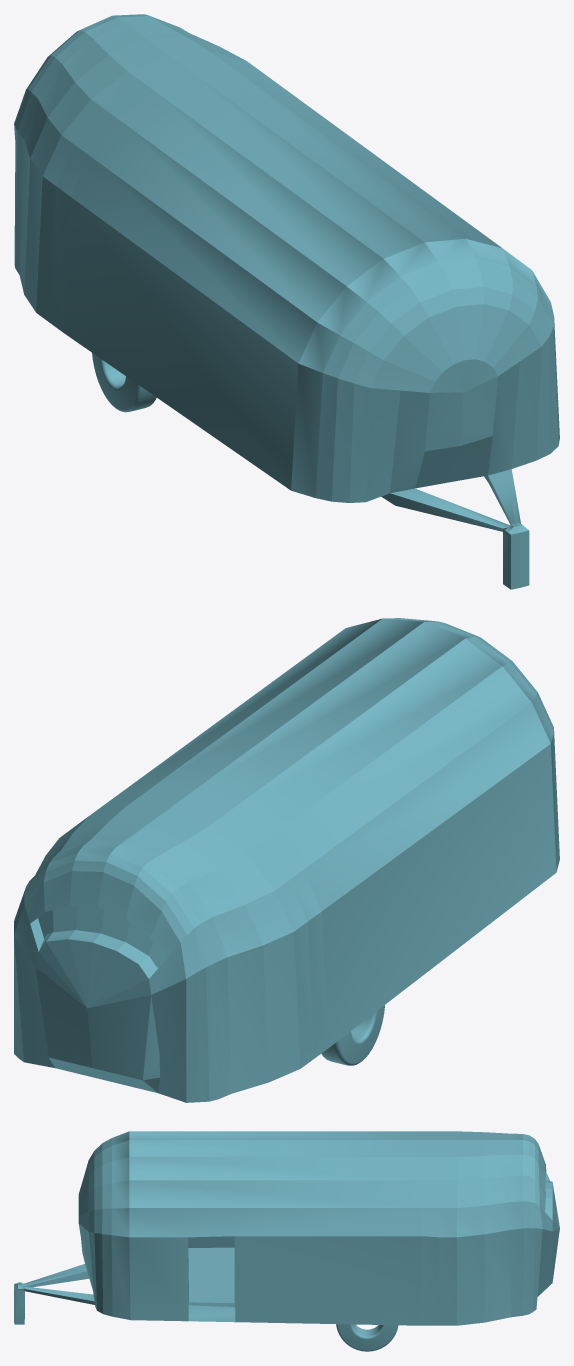
File: Camper rack van 2.fbx
3 views of the same model, one above another, from view 1: azimuth 30°, elevation 25°; view 2: azimuth 150°, elevation 25°; view 3: azimuth 270°, elevation 25° (orthographic). The views are drawn at different scales.
Visible parts, largest first — view 1: pPipe6; view 2: pPipe6; view 3: pPipe6.
Part boxes in pixels (<box>): pPipe6: <box>14,14,559,589</box>; pPipe6: <box>14,618,559,1102</box>; pPipe6: <box>14,1131,559,1351</box>.
Size of the model in its own units: 609 by 616 by 1694.
